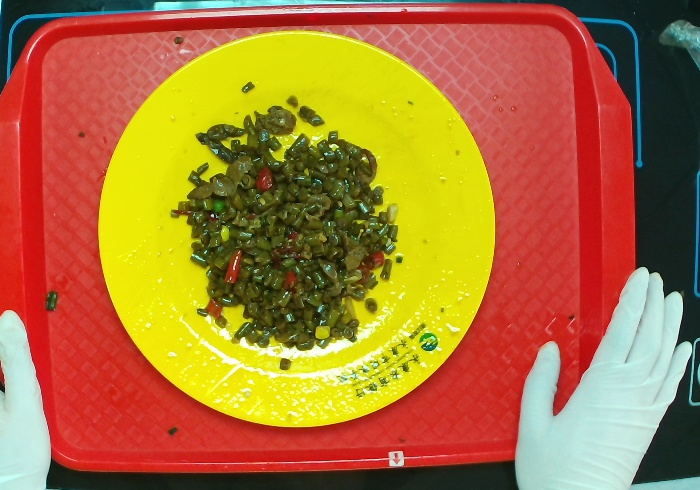YKMZ-Huang_Se_Mian_Pan: (86, 27, 503, 433)
